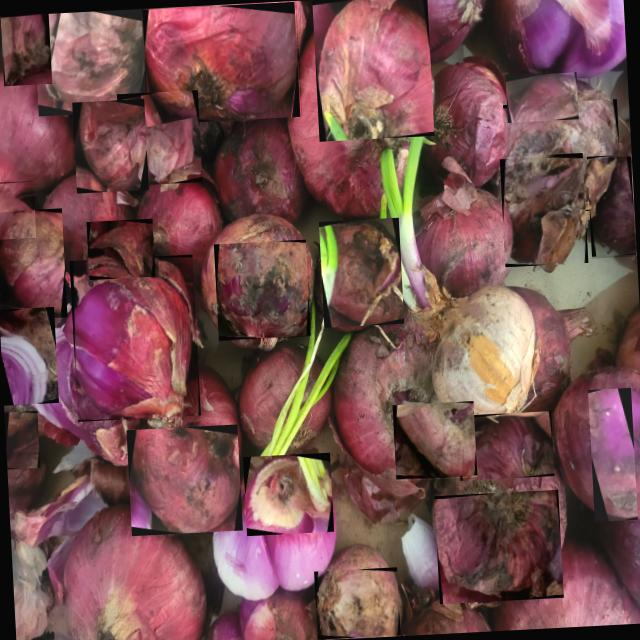rotten: (70, 254, 200, 422), (143, 1, 303, 124), (312, 0, 434, 142), (434, 490, 564, 604), (503, 100, 623, 218), (126, 424, 242, 536), (34, 9, 146, 116), (214, 240, 311, 343), (500, 155, 588, 267), (319, 218, 404, 328), (117, 90, 203, 186), (243, 453, 334, 536), (0, 208, 67, 320), (72, 98, 149, 194), (392, 402, 478, 482), (458, 411, 554, 481), (588, 388, 638, 522), (314, 568, 400, 640), (0, 307, 59, 406), (587, 157, 636, 259), (86, 219, 156, 280), (0, 14, 52, 86), (506, 72, 578, 123), (4, 410, 40, 470), (0, 181, 36, 240)
